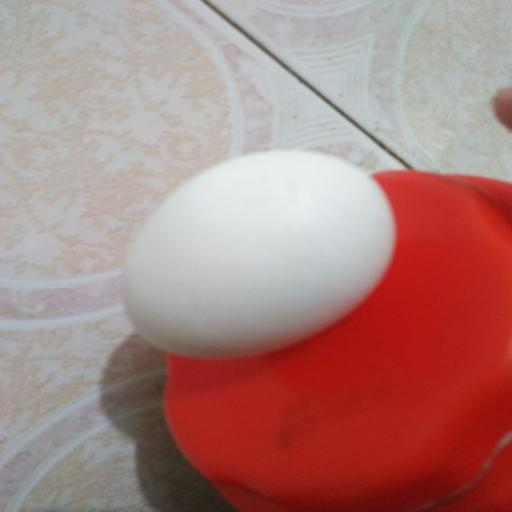telur: (114, 145, 400, 363)
